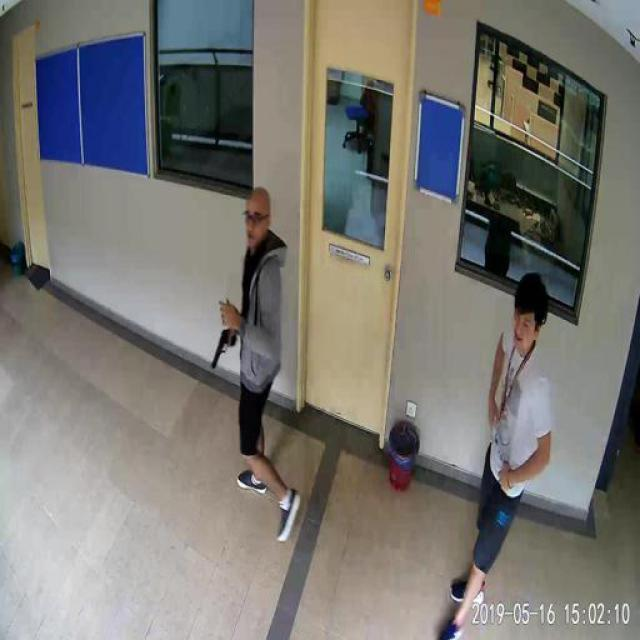weapon: (210, 327, 238, 370)
